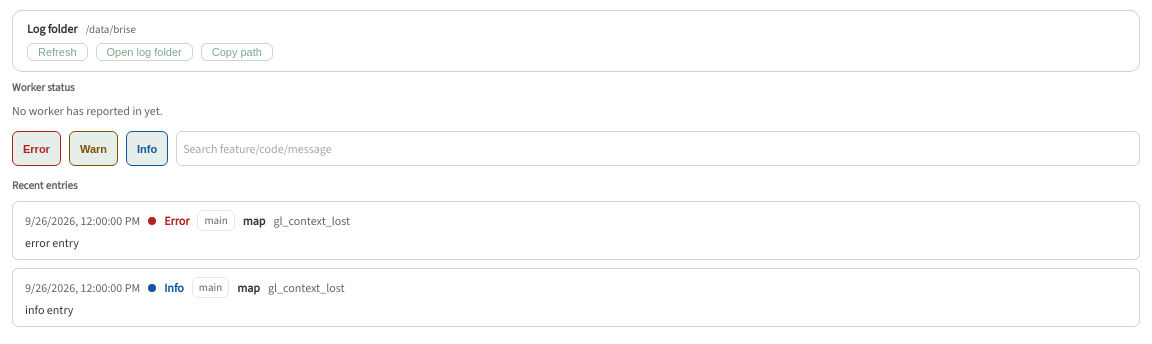
DiagnosticsTab › hides entries of a level when its filter toggle is switched off
Expected: the text "error entry" is shown, x1=25 y1=235 x2=79 y2=251
Expected: the text "info entry" is shown, x1=25 y1=302 x2=74 y2=318
What coordinates should you click on to do the following:
click the button with test id "ai-diag-filter-level-error"
I would click on:
 (36, 148)
Its box is x1=12 y1=131 x2=61 y2=166.
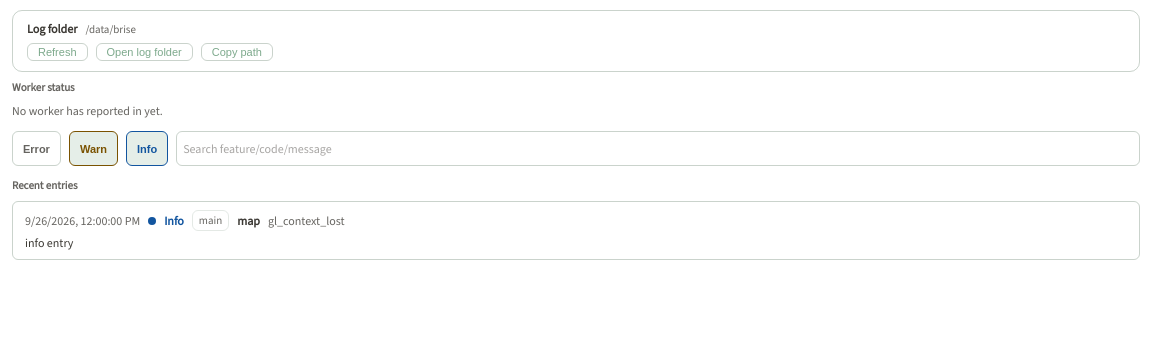
Expected: the text "info entry" is shown, x1=25 y1=235 x2=74 y2=251
Expected: the text "error entry" is gone
